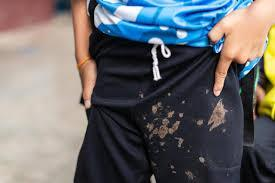earth: (149, 103, 183, 145), (205, 102, 228, 132)
